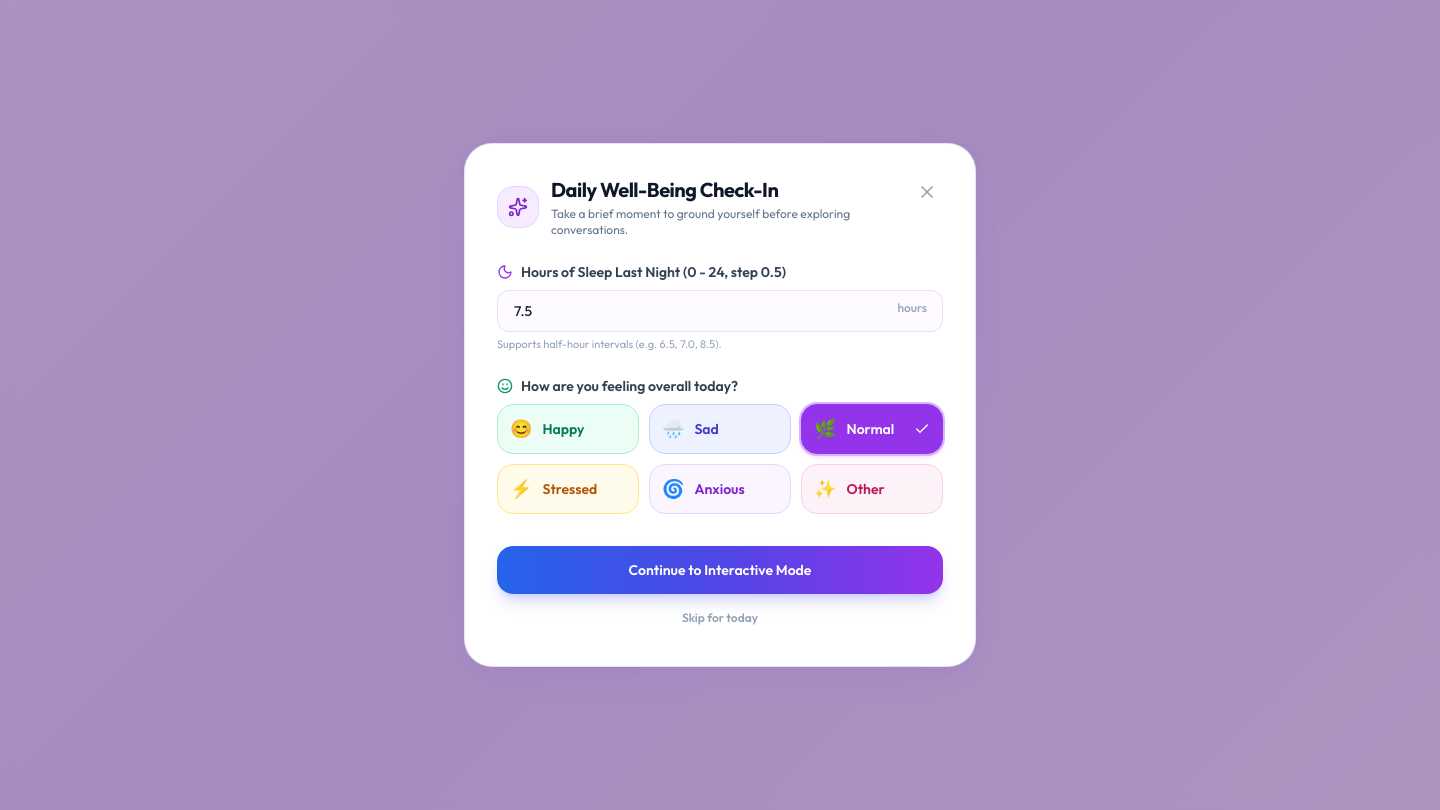
Scenario: DailyCheckInModal Component › validates sleep hours step of 0.5 and range 0-24
Expected: the heading "Daily Well-Being Check-In" is shown, [551, 177, 778, 202]
// Test invalid negative sleep hours
Replace the text in the number field labelled "Hours of Sleep Last Night (0 - 24, step 0.5)" with "-2" at [720, 311], box [497, 290, 943, 332]
Click the button "Continue to Interactive Mode".
click(720, 570)  # box [497, 546, 943, 594]
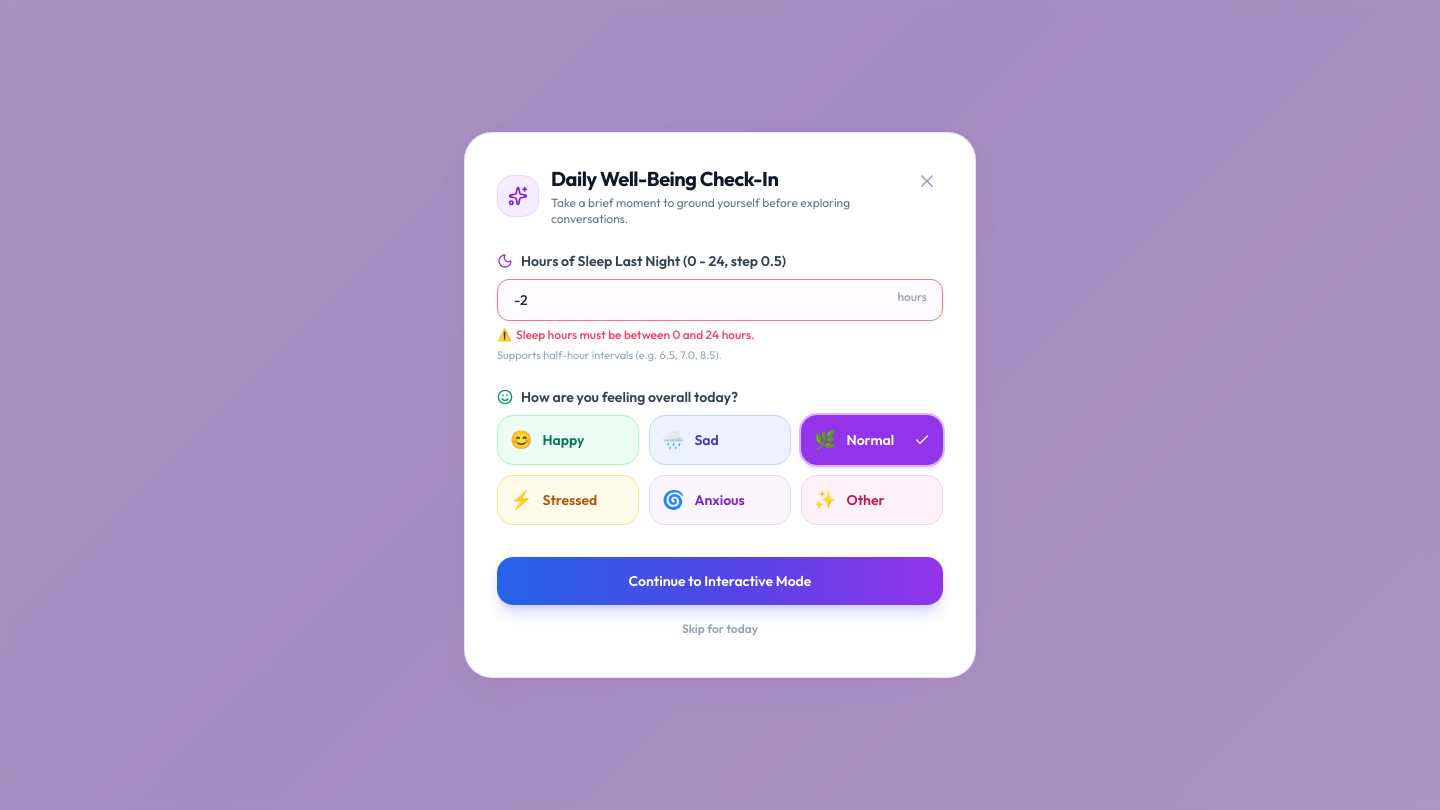
Expected: the text "⚠️ Sleep hours must be between 0 and 24 hours." is shown, [497, 327, 755, 342]
Replace the text in the number field labelled "Hours of Sleep Last Night (0 - 24, step 0.5)" with "25" at [720, 300], box [497, 279, 943, 321]
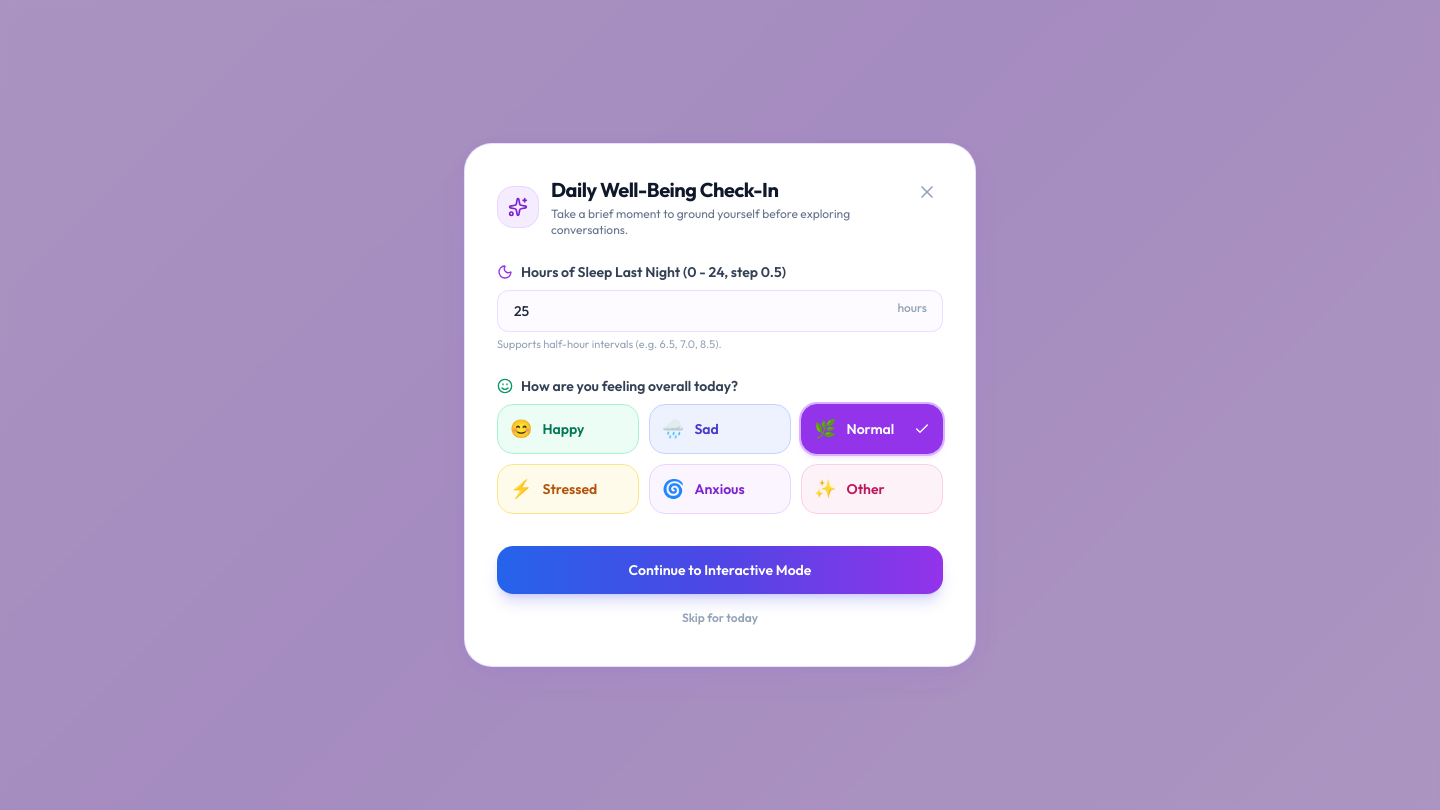
Click the button "Continue to Interactive Mode".
click(720, 570)  # box [497, 546, 943, 594]
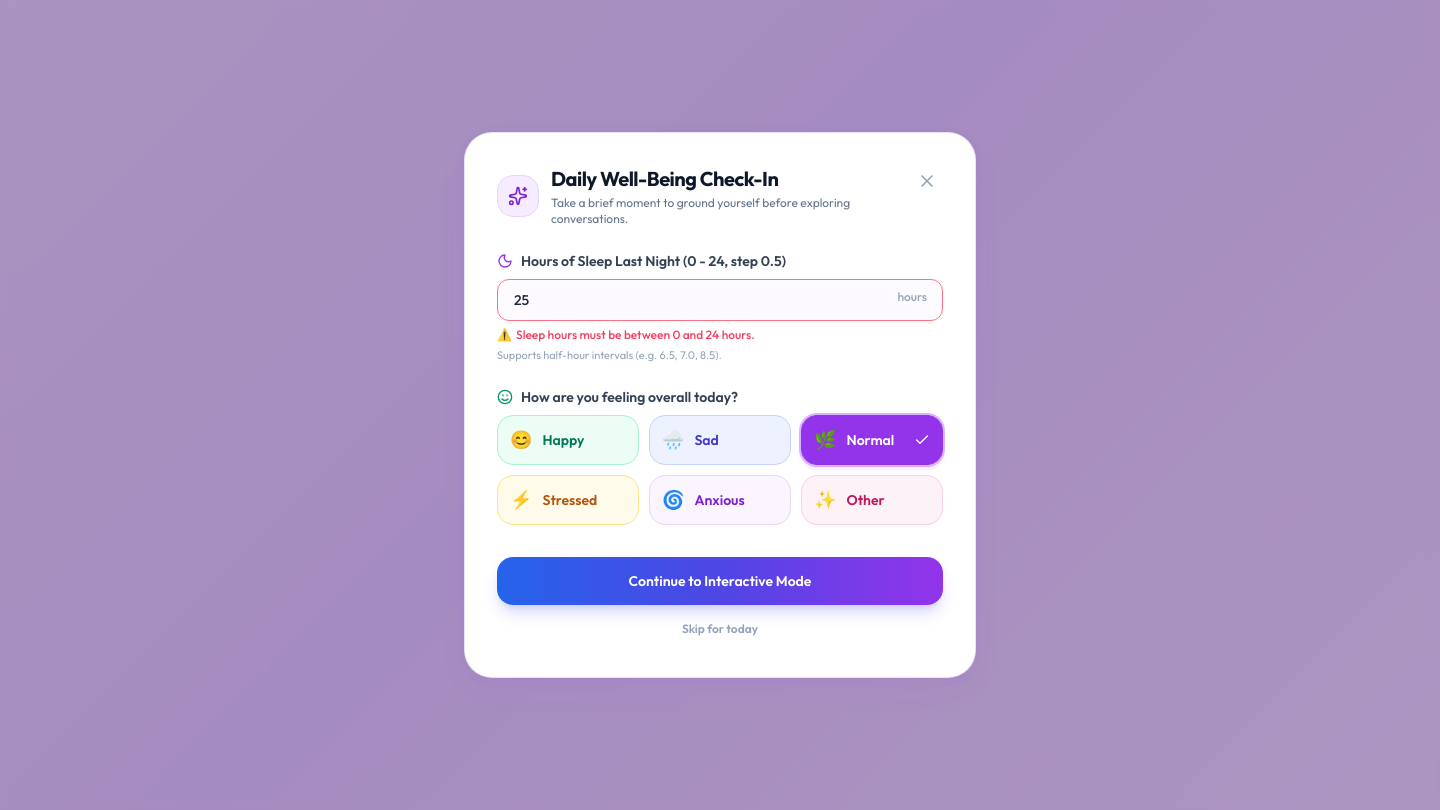
Expected: the text "⚠️ Sleep hours must be between 0 and 24 hours." is shown, [497, 327, 755, 342]
Replace the text in the number field labelled "Hours of Sleep Last Night (0 - 24, step 0.5)" with "7.3" at [720, 300], box [497, 279, 943, 321]
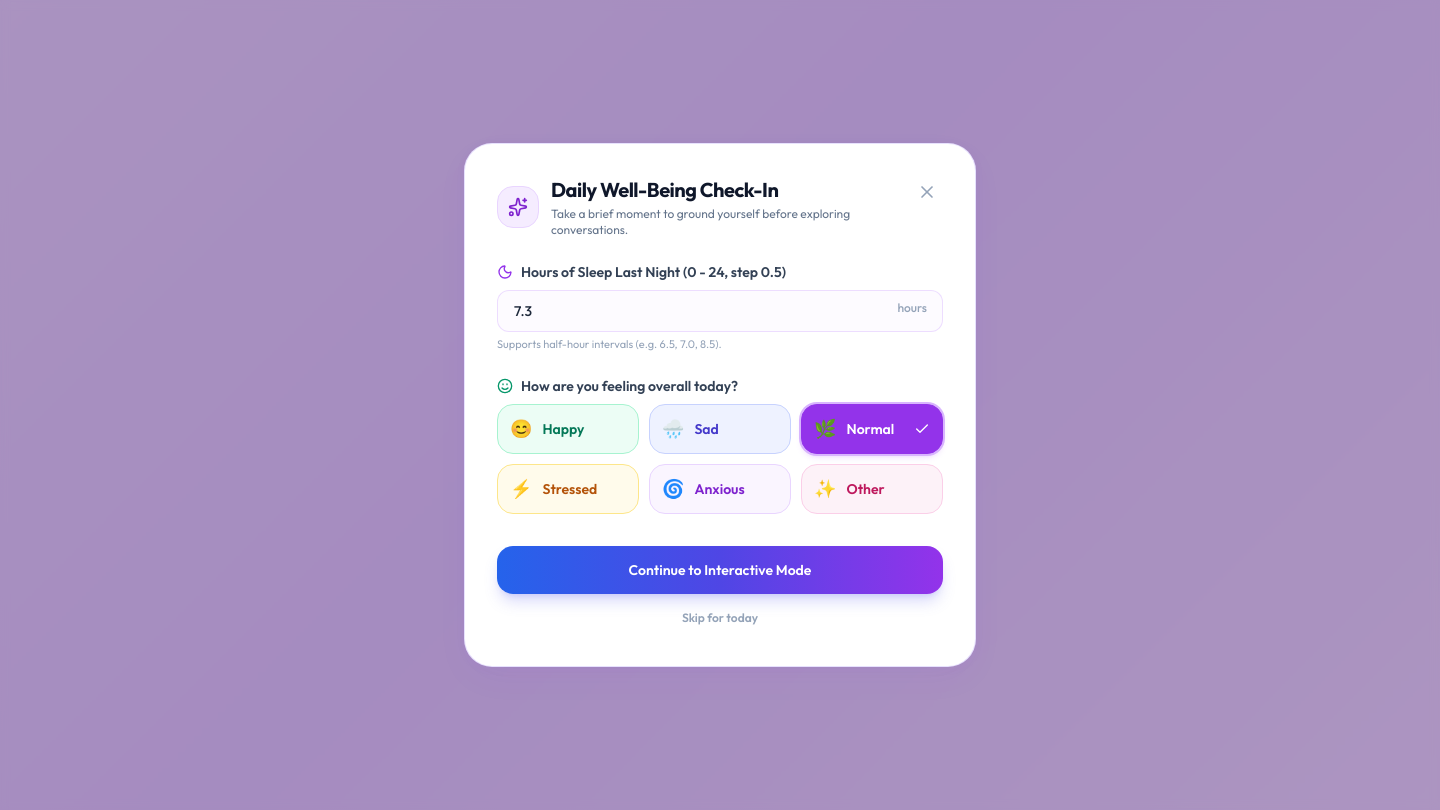
Click the button "Continue to Interactive Mode".
click(720, 570)  # box [497, 546, 943, 594]
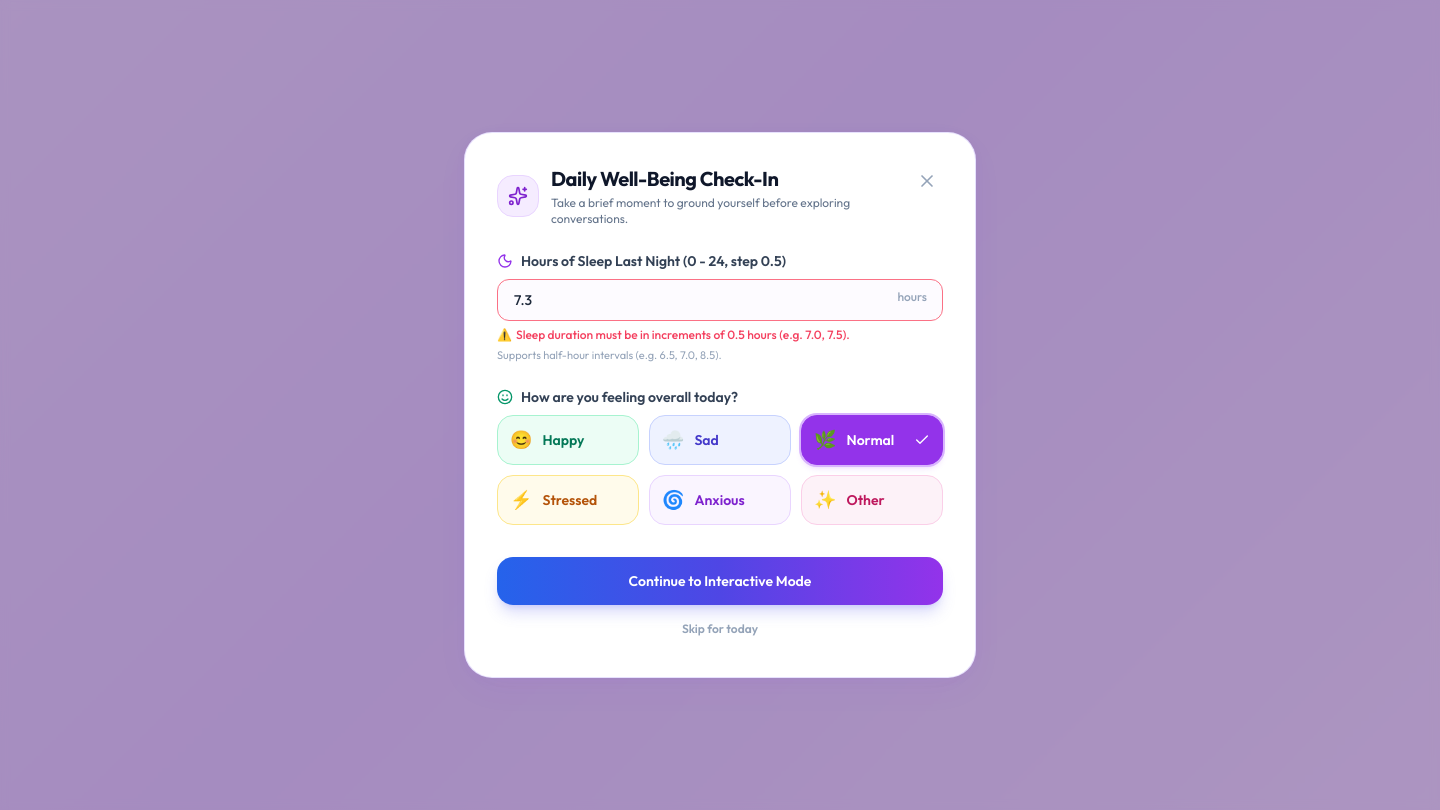
Expected: the text "⚠️ Sleep duration must be in increments of 0.5 hours (e.g. 7.0, 7.5)." is shown, [497, 327, 850, 342]
Replace the text in the number field labelled "Hours of Sleep Last Night (0 - 24, step 0.5)" with "7.5" at [720, 300], box [497, 279, 943, 321]
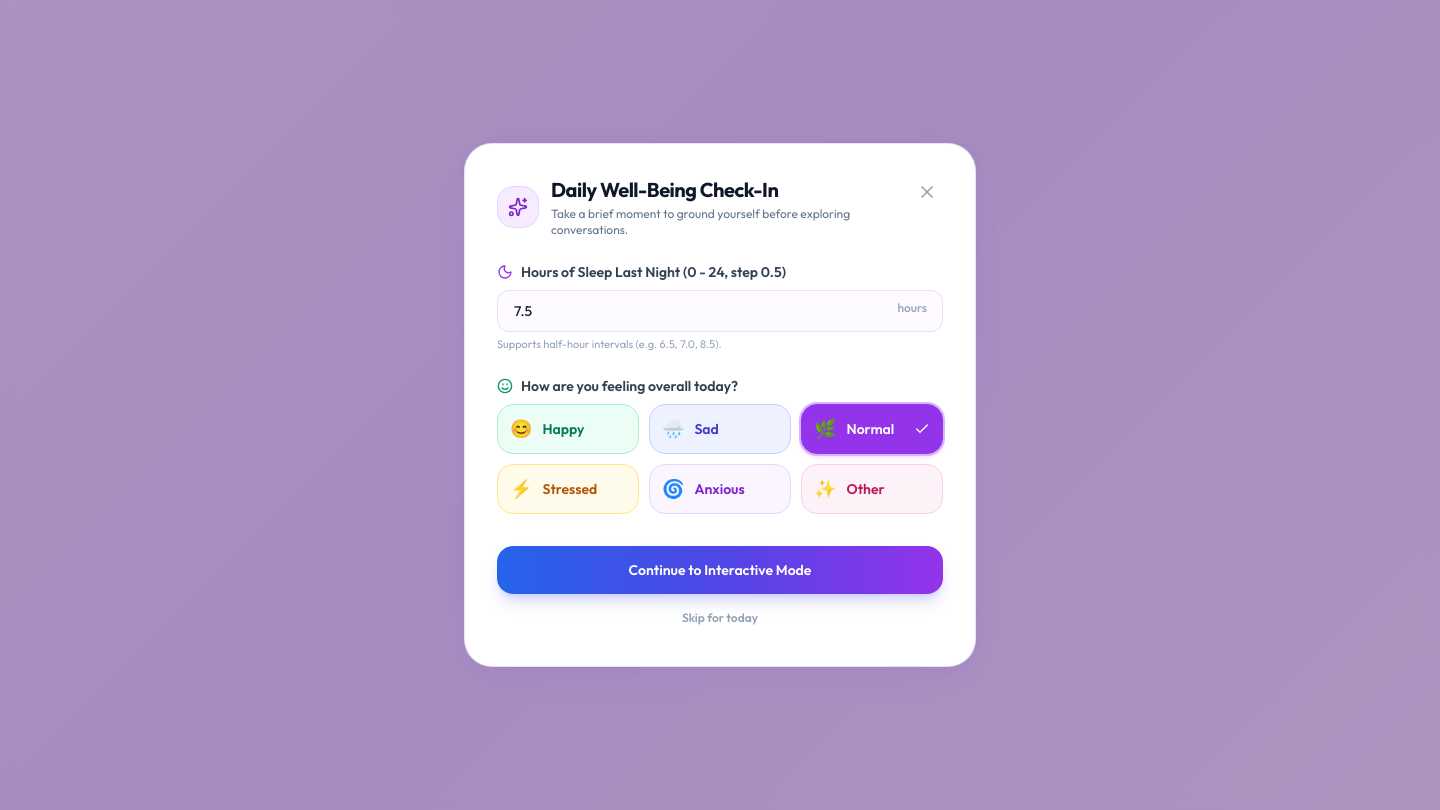
Expected: the text "Sleep duration must be in increments of 0.5 hours" is gone
